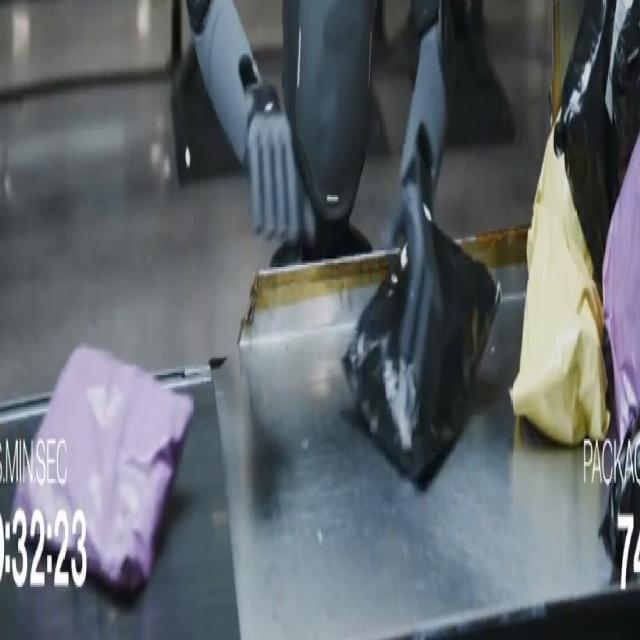package: (14, 346, 193, 593), (343, 221, 499, 487), (511, 136, 609, 445), (555, 0, 616, 286), (603, 145, 639, 442), (606, 0, 639, 203), (600, 422, 639, 578)
